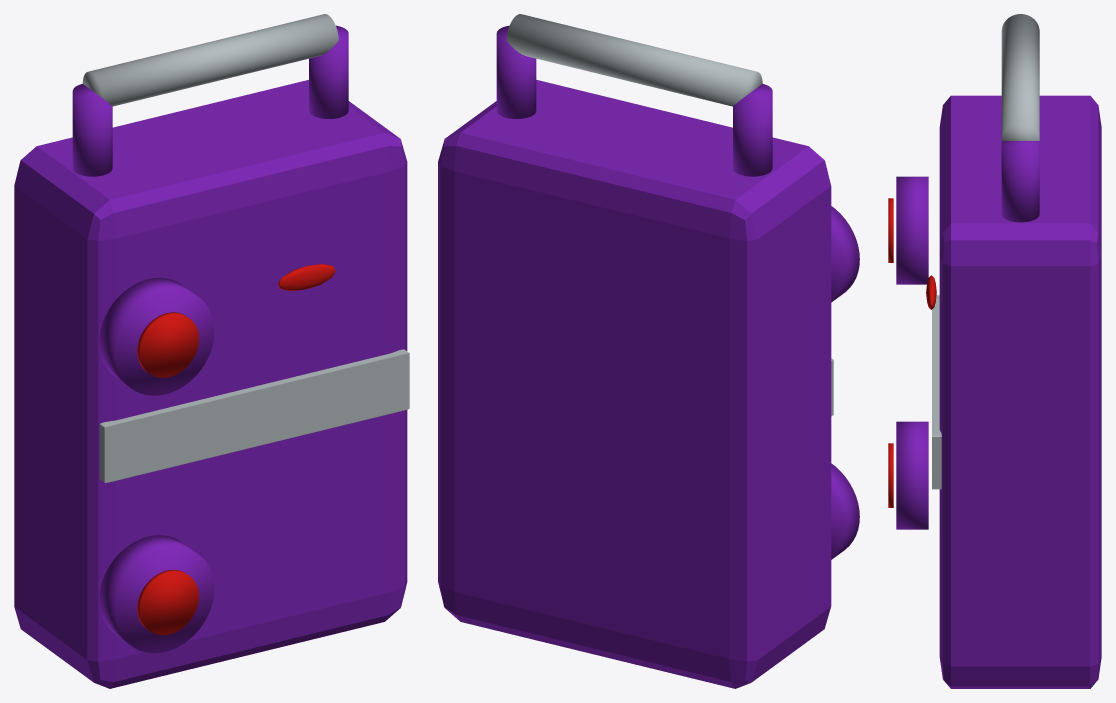
3 renders of one model, left to right at view 1: azimuth 30°, elevation 25°; view 2: azimuth 150°, elevation 25°; view 3: azimuth 270°, elevation 25°, orthographic. The views are drawn at different scales.
Parts seen in each view (by area): view 1: TI075 / rounded purple transport shell, TI075 / pale central band, TI075 / metal carrying grip, TI075 / large sealed interface.001, TI075 / large sealed interface, TI075 / portable case handle post, TI075 / interface centre.001, TI075 / interface centre, TI075 / portable case handle post.001, TI075 / front identification mark; view 2: TI075 / rounded purple transport shell, TI075 / metal carrying grip, TI075 / portable case handle post, TI075 / portable case handle post.001, TI075 / large sealed interface.001, TI075 / large sealed interface; view 3: TI075 / rounded purple transport shell, TI075 / metal carrying grip, TI075 / large sealed interface, TI075 / large sealed interface.001, TI075 / portable case handle post.001, TI075 / pale central band, TI075 / interface centre, TI075 / interface centre.001.
Part boxes in pixels (left/top/right/bottom): TI075 / rounded purple transport shell: left=14, top=80, right=407, bottom=688; TI075 / pale central band: left=99, top=349, right=409, bottom=482; TI075 / metal carrying grip: left=82, top=14, right=338, bottom=106; TI075 / large sealed interface.001: left=99, top=277, right=214, bottom=395; TI075 / large sealed interface: left=99, top=535, right=214, bottom=653; TI075 / portable case handle post: left=72, top=84, right=112, bottom=176; TI075 / interface centre.001: left=137, top=312, right=198, bottom=377; TI075 / interface centre: left=137, top=569, right=198, bottom=635; TI075 / portable case handle post.001: left=309, top=25, right=348, bottom=118; TI075 / front identification mark: left=278, top=264, right=335, bottom=291; TI075 / rounded purple transport shell: left=438, top=80, right=831, bottom=688; TI075 / metal carrying grip: left=506, top=14, right=762, bottom=106; TI075 / portable case handle post: left=733, top=84, right=772, bottom=176; TI075 / portable case handle post.001: left=496, top=25, right=536, bottom=118; TI075 / large sealed interface.001: left=831, top=206, right=859, bottom=302; TI075 / large sealed interface: left=831, top=463, right=859, bottom=559; TI075 / rounded purple transport shell: left=939, top=95, right=1101, bottom=688; TI075 / metal carrying grip: left=1001, top=14, right=1039, bottom=140; TI075 / large sealed interface: left=896, top=421, right=928, bottom=529; TI075 / large sealed interface.001: left=896, top=176, right=928, bottom=284; TI075 / portable case handle post.001: left=1001, top=141, right=1039, bottom=222; TI075 / pale central band: left=932, top=295, right=941, bottom=489; TI075 / interface centre: left=888, top=443, right=893, bottom=507; TI075 / interface centre.001: left=888, top=198, right=893, bottom=262.
Bounding box in the file's own units: 1.3 × 2.27 × 0.79.
